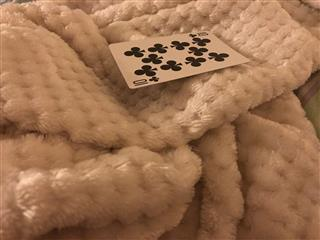TenOfClubs: (107, 29, 250, 89)
